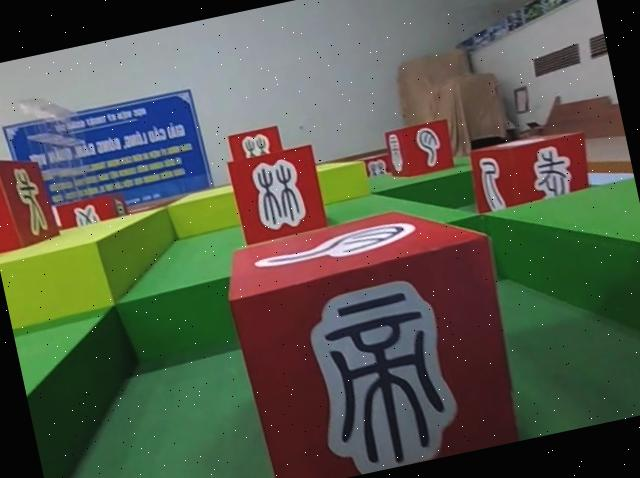R2 Fake: (213, 188, 540, 478), (465, 120, 604, 230), (219, 139, 334, 249), (0, 143, 69, 261), (381, 112, 463, 182)
